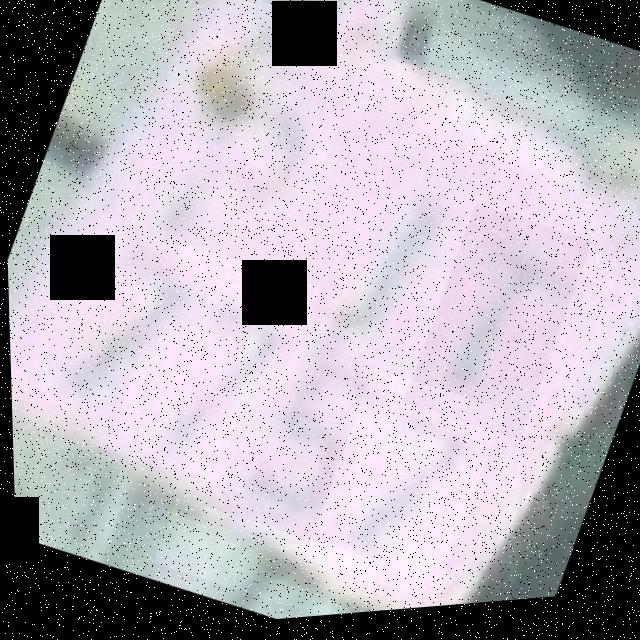3: (148, 487, 380, 631)
5: (200, 311, 405, 557)
7: (98, 236, 322, 506), (296, 366, 506, 617)
T: (396, 205, 594, 456)
